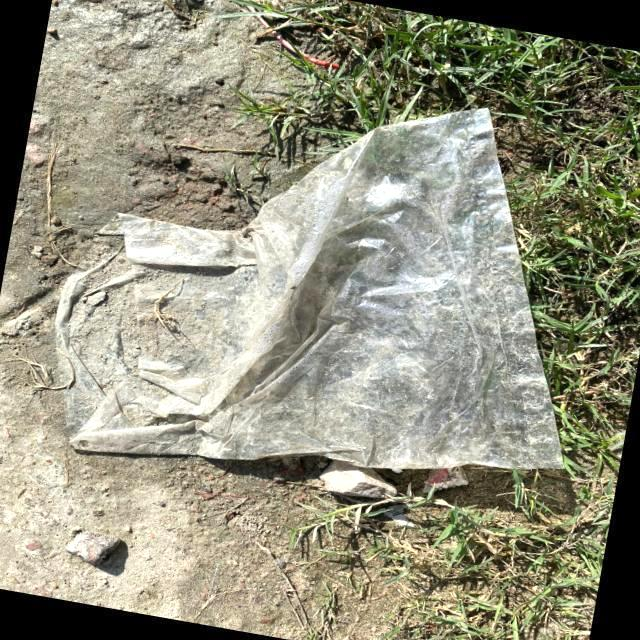polythene: (113, 204, 547, 459)
